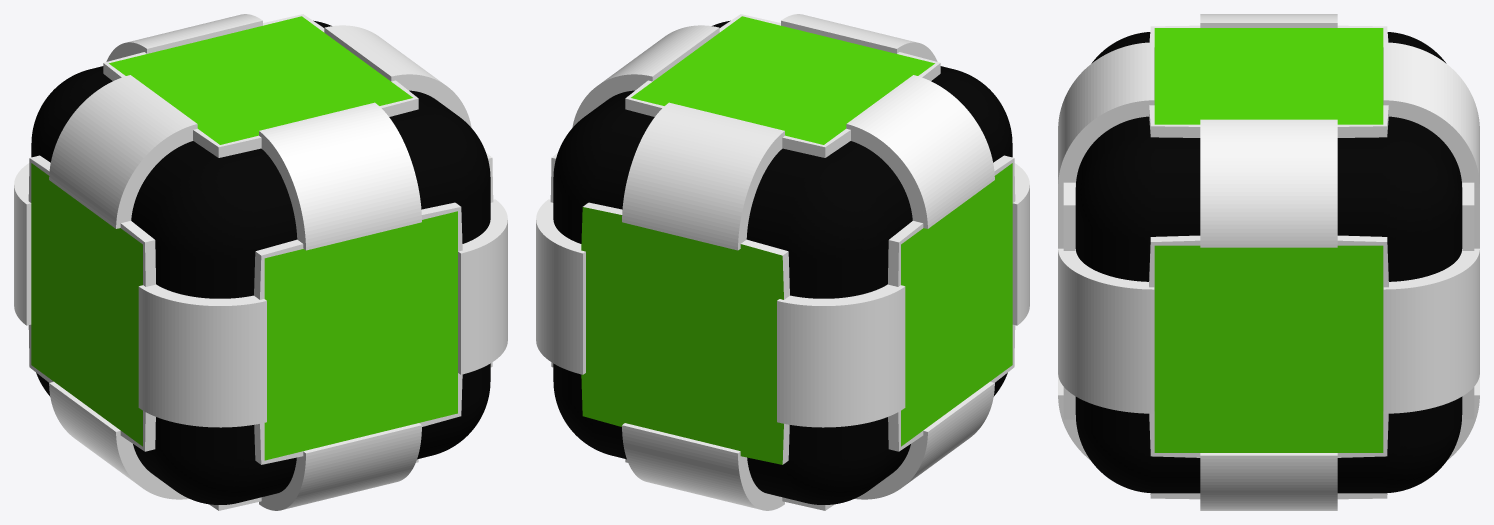
The model's file is black_hole_device.fbx.
3 renders of one model, left to right at view 1: azimuth 30°, elevation 25°; view 2: azimuth 150°, elevation 25°; view 3: azimuth 270°, elevation 25°, orthographic. The views are drawn at different scales.
Visible parts, largest first — view 1: Cube; view 2: Cube; view 3: Cube.
Boxes of the visible parts, box(x1,y1,x2,y2) form: Cube: box(14, 14, 507, 510); Cube: box(536, 14, 1029, 510); Cube: box(1058, 14, 1479, 510).
Size of the model in its own units: 218 by 218 by 218.
